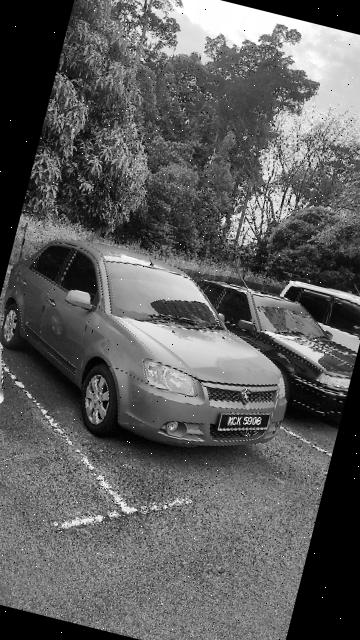License_Plate: (219, 401, 275, 443)
car: (1, 221, 318, 479), (157, 268, 360, 430), (265, 276, 360, 381)
